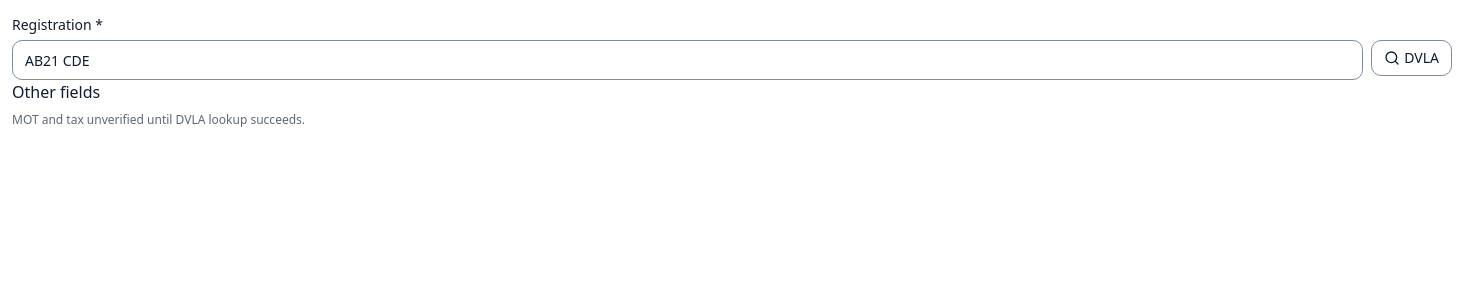
Test: DVLA lookup on the job form › fills the form only for the matching vehicle and clears results when edited
Click the button "DVLA" at (1412, 58), box x1=1371 y1=40 x2=1452 y2=76
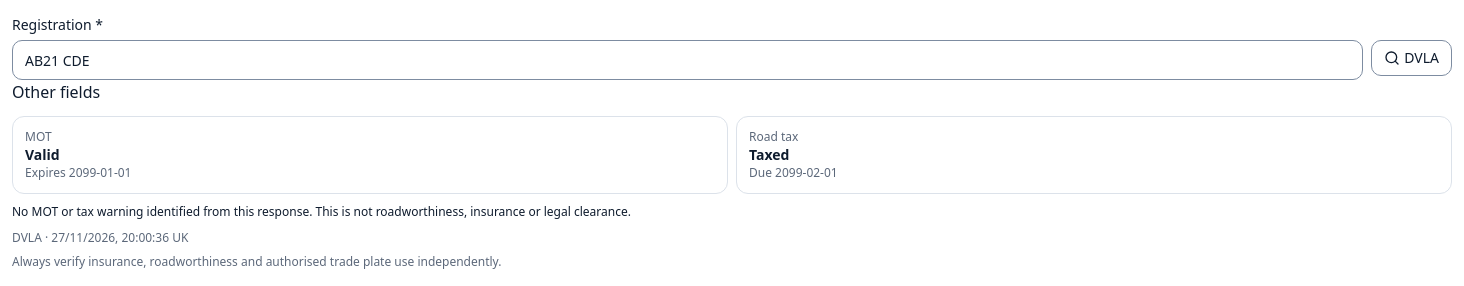
Now the text "Valid" is shown, box x1=25 y1=145 x2=60 y2=164
Replace the text in the field labelled "Registration *" with "ZZ99ZZZ" at (688, 60), box x1=12 y1=40 x2=1363 y2=80
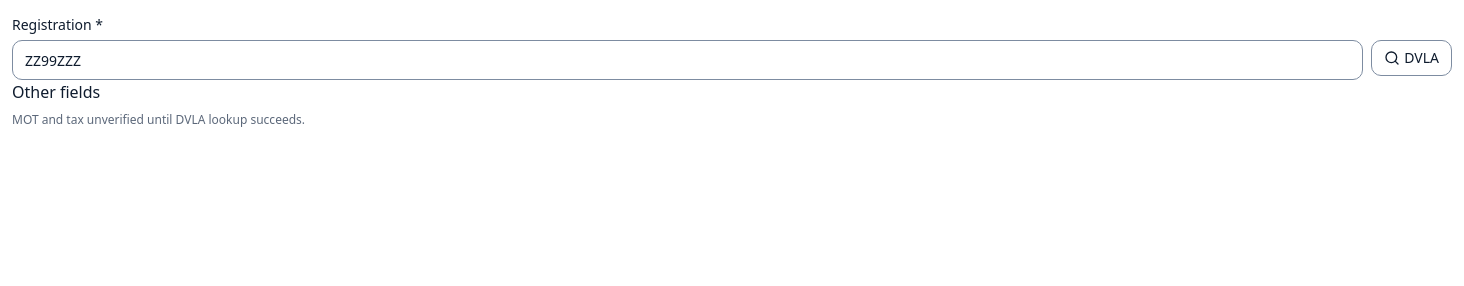
Now the text "Valid" is gone
